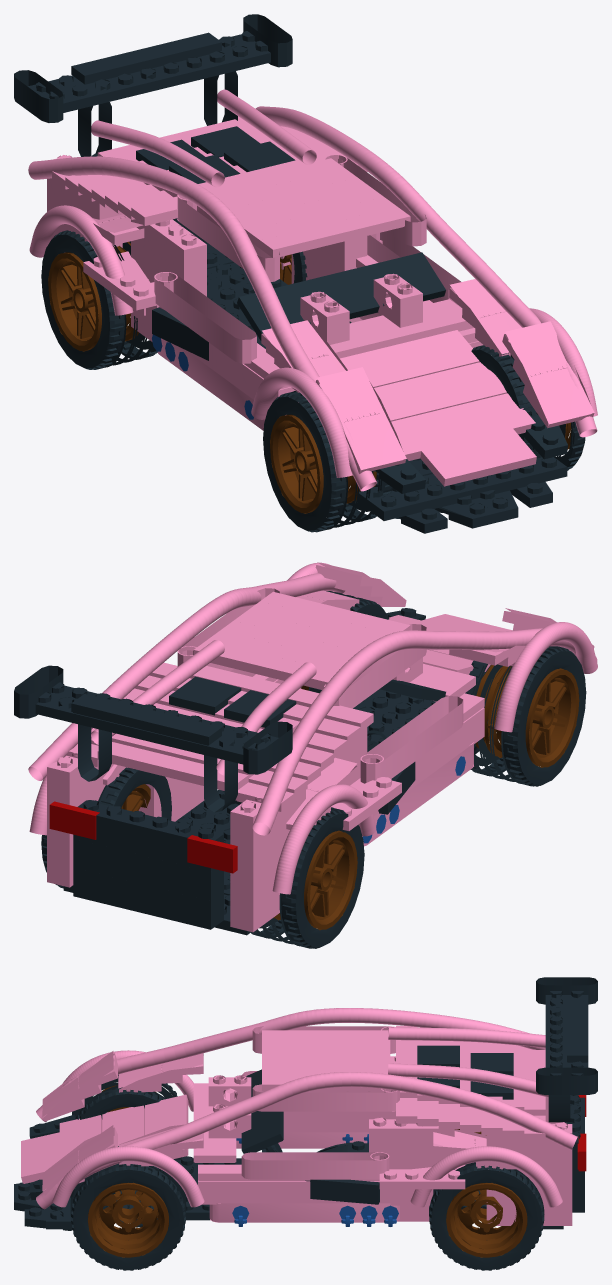
The model's file is pinklambo.glb.
3 views of the same model, one above another, from view 1: azimuth 30°, elevation 25°; view 2: azimuth 150°, elevation 25°; view 3: azimuth 270°, elevation 25° (orthographic). The views are drawn at different scales.
Visible parts, largest first — view 1: p456, p386, p0, p4, p383, p34, p1, p5, p394, p402, p457, p411 (+56 smaller); view 2: p0, p1, p456, p451, p4, p449, p450, p34, p5, p457, p434, p407 (+52 smaller); view 3: p2, p6, p3, p7, p209, p197, p202, p401, p383, p415, p456, p384 (+59 smaller).
Part boxes in pixels (x1,y1,x2,y2): p456: (27, 31, 270, 112); p386: (502, 321, 594, 428); p0: (263, 391, 392, 532); p4: (41, 230, 157, 369); p383: (316, 367, 406, 473); p34: (154, 272, 256, 363); p1: (270, 414, 376, 513); p5: (48, 241, 138, 351); p394: (331, 252, 445, 318); p402: (260, 206, 410, 257); p457: (71, 32, 221, 84); p411: (131, 219, 206, 278); p0: (465, 646, 586, 786); p1: (475, 665, 579, 767); p456: (35, 682, 278, 764); p451: (73, 800, 223, 872); p4: (251, 807, 364, 948); p449: (73, 867, 223, 929); p450: (73, 839, 223, 900); p34: (360, 696, 463, 783); p5: (273, 830, 357, 930); p457: (71, 694, 221, 745); p434: (97, 742, 248, 790); p407: (193, 640, 336, 689); p2: (70, 1146, 186, 1270); p6: (429, 1162, 544, 1270); p3: (87, 1182, 168, 1257); p7: (446, 1182, 527, 1257); p209: (241, 1152, 389, 1179); p197: (209, 1203, 399, 1222); p202: (198, 1180, 326, 1204); p401: (252, 1084, 399, 1111); p383: (42, 1051, 117, 1121); p415: (369, 1117, 454, 1151); p456: (545, 991, 588, 1075); p384: (118, 1053, 203, 1092).
Bounding box in the file's own units: 11.6 × 10.1 × 27.3.
